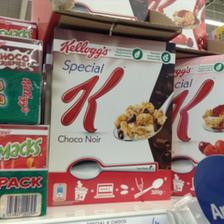Cerealien: (48, 26, 176, 178), (169, 52, 223, 172)
